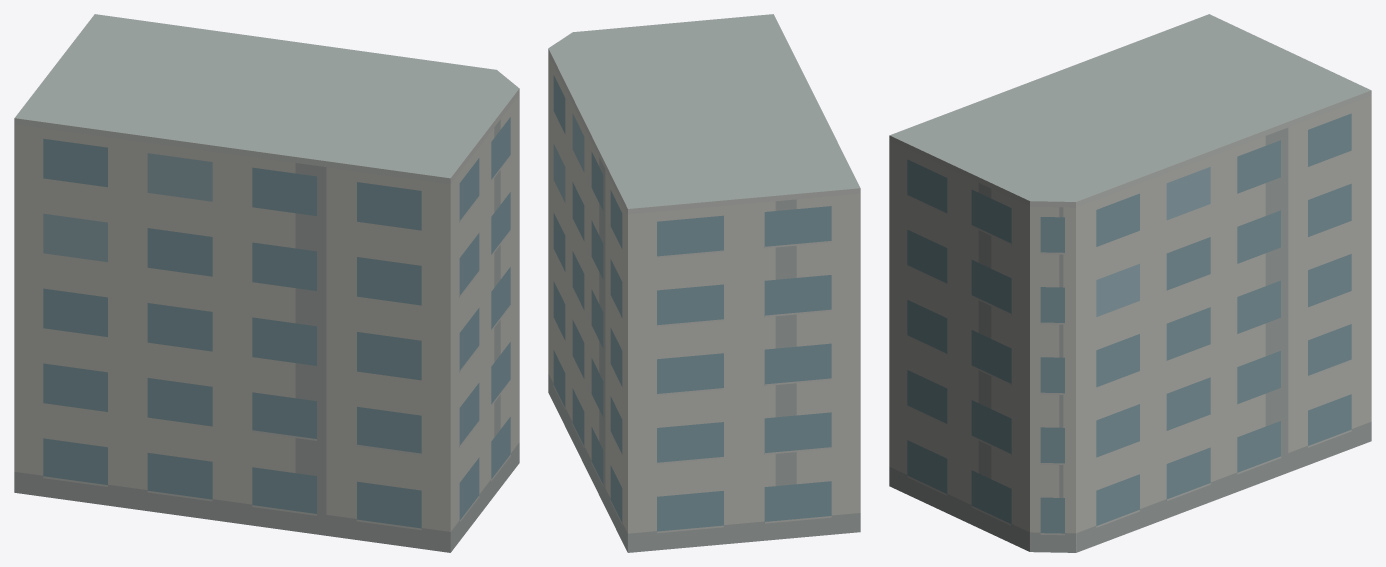
File: survey-upis-32676117.glb
The picture shows the model from 3 angles, left to right: view 1: azimuth 30°, elevation 25°; view 2: azimuth 150°, elevation 25°; view 3: azimuth 270°, elevation 25°; orthographic projection. The views are drawn at different scales.
Visible parts, largest first — view 1: survey-upis-32676117.tmp; view 2: survey-upis-32676117.tmp; view 3: survey-upis-32676117.tmp.
Boxes of the visible parts, left/top/right/bottom form: survey-upis-32676117.tmp: left=14, top=14, right=519, bottom=552; survey-upis-32676117.tmp: left=548, top=14, right=860, bottom=552; survey-upis-32676117.tmp: left=889, top=14, right=1371, bottom=552.
Bounding box in the file's own units: 17.59 × 15.3 × 19.06.
